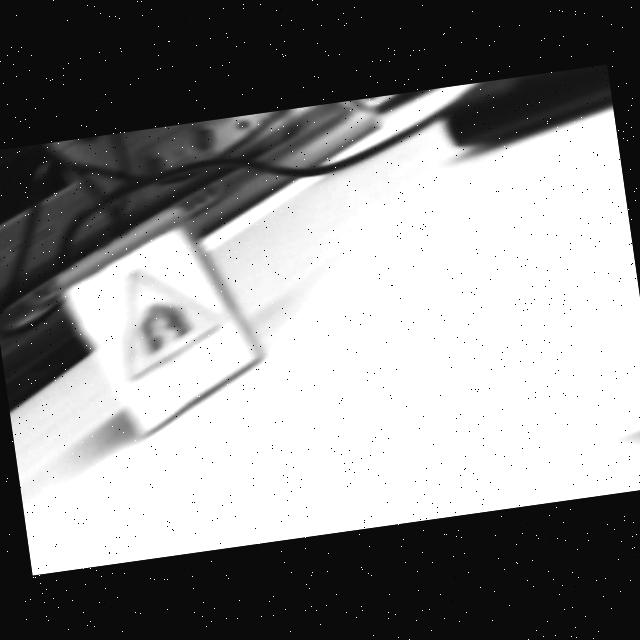Earthquake: (123, 270, 221, 380)
